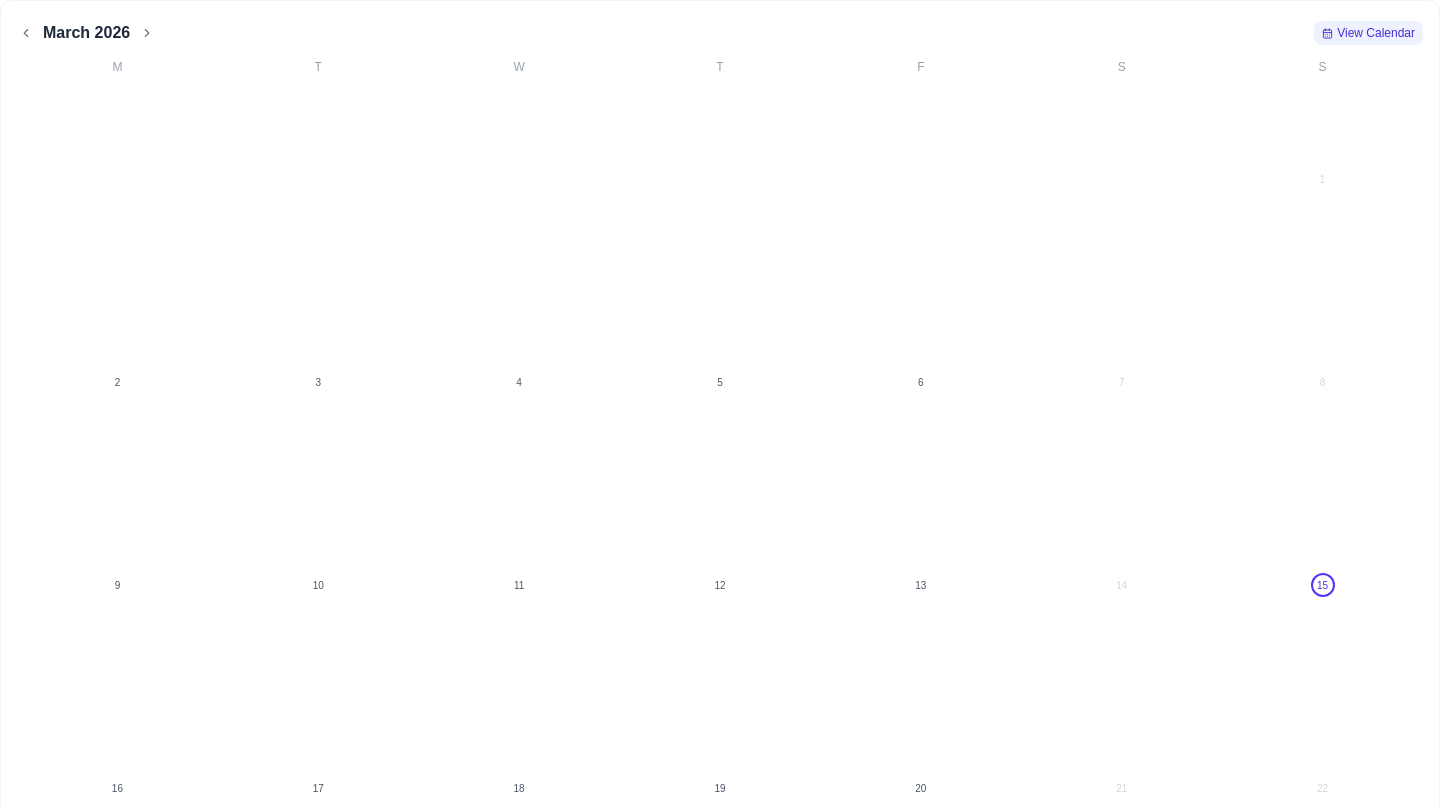
Test: MiniCalendar — month navigation › navigates to the previous month when Previous month is clicked
Click the button named "Previous month": [26, 33] box [17,24,35,42]
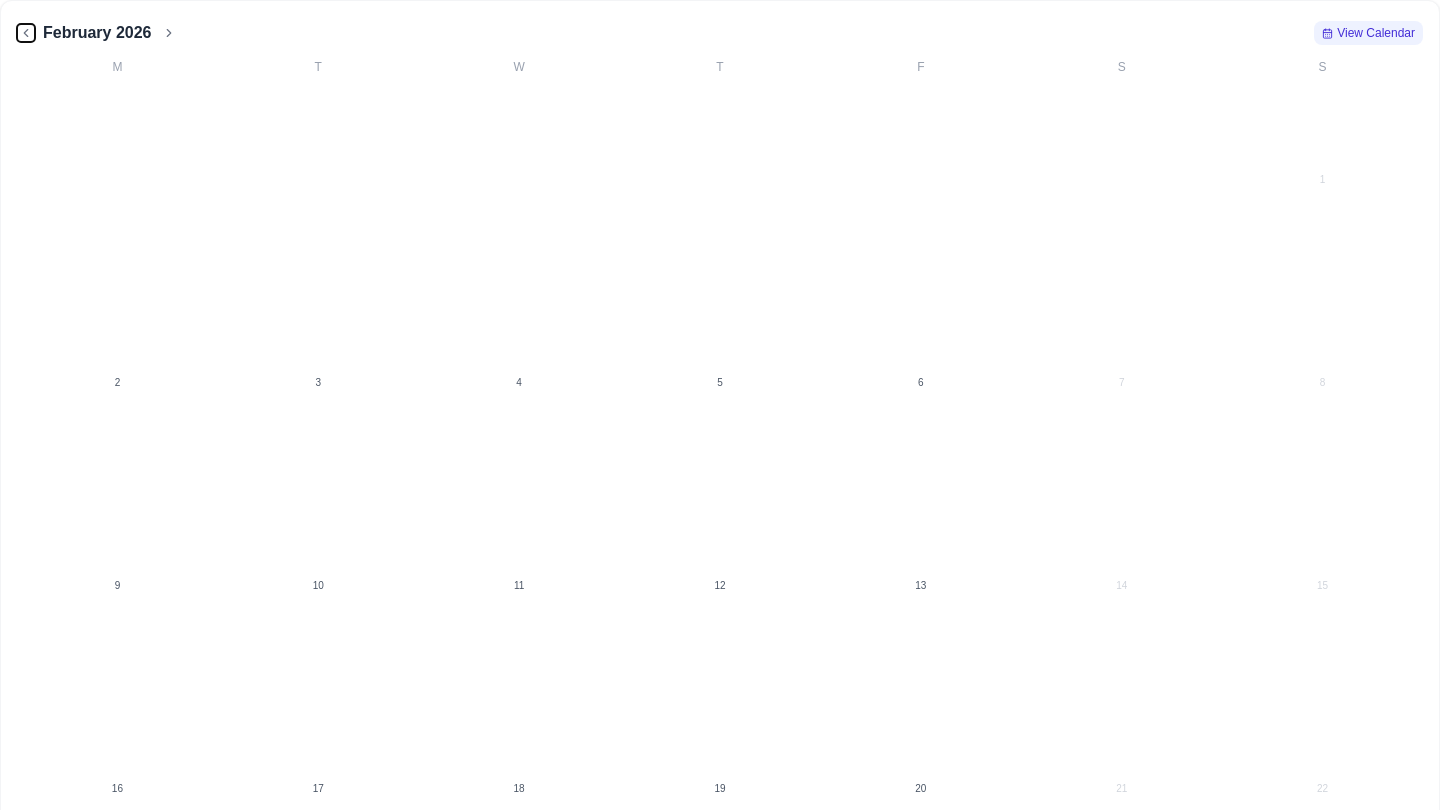
expect the button "February 2026" is shown: met, box [35,17,160,49]
